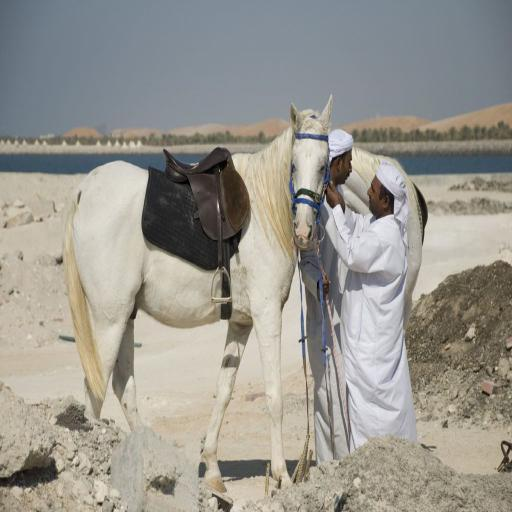horse: (63, 94, 334, 506), (338, 142, 422, 334)
